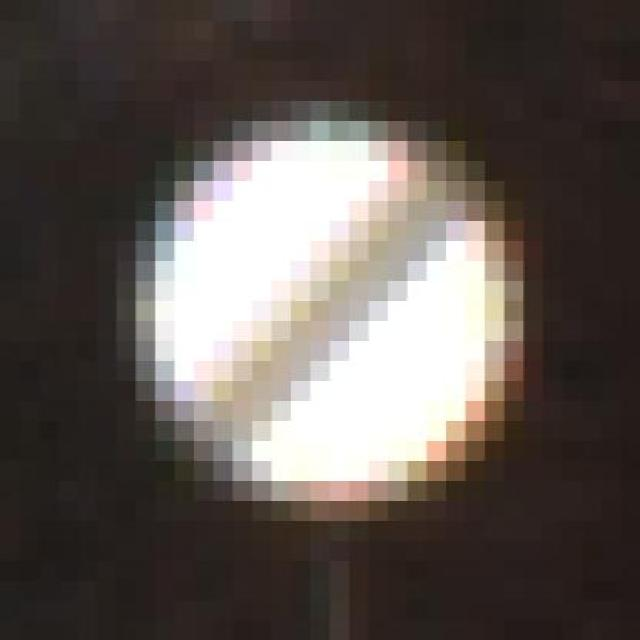End of all speed and passing limits: (135, 80, 543, 540)
